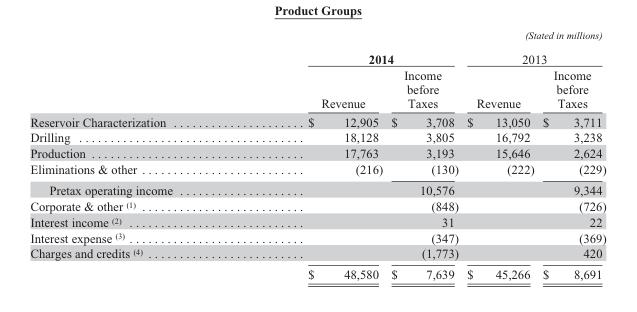table: (29, 29, 605, 281)
table column: (29, 29, 239, 281), (239, 29, 386, 281), (386, 29, 462, 281), (462, 29, 537, 281), (537, 29, 605, 281)
table column header: (29, 29, 605, 112)
table row: (29, 67, 605, 112), (29, 46, 605, 67), (29, 161, 605, 179), (29, 179, 605, 197), (29, 245, 605, 263), (29, 263, 605, 281), (29, 29, 605, 46), (29, 112, 605, 129), (29, 129, 605, 145), (29, 145, 605, 161), (29, 197, 605, 213), (29, 213, 605, 229), (29, 229, 605, 245)
table spanning cell: (239, 46, 462, 67), (386, 29, 605, 46), (462, 46, 605, 67)
